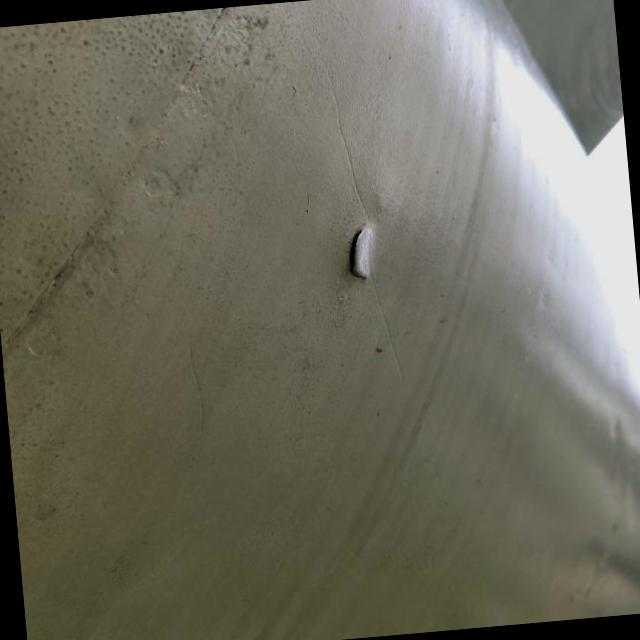crack: (328, 214, 394, 294)
